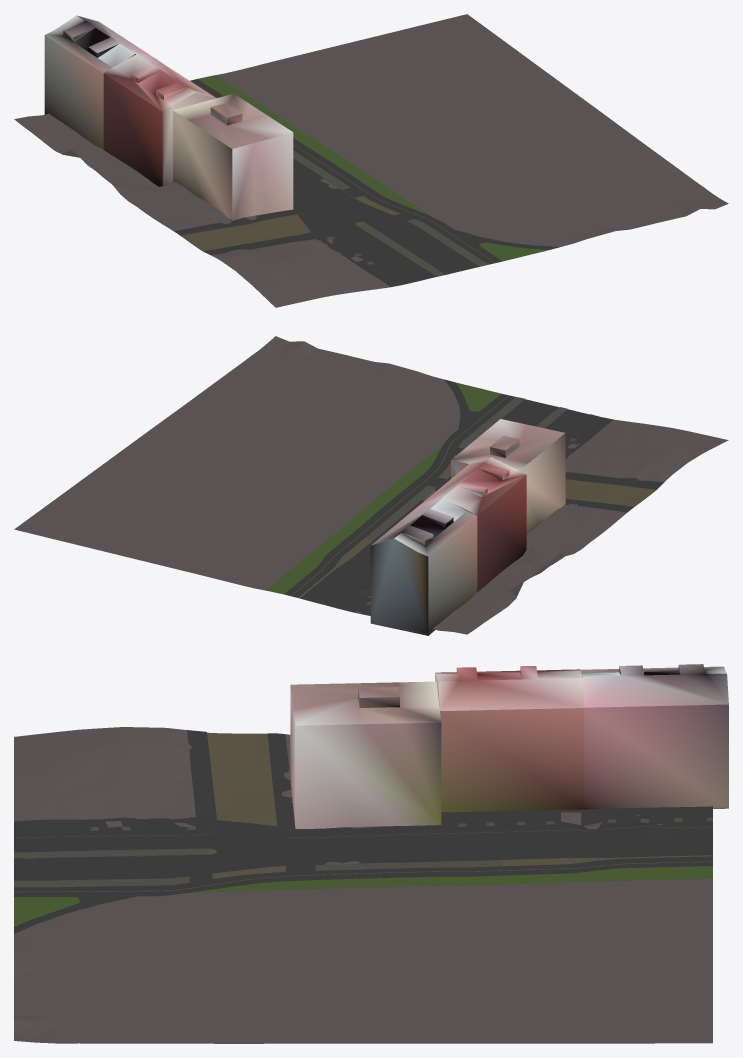
3 renders of one model, top to bottom at view 1: azimuth 30°, elevation 25°; view 2: azimuth 150°, elevation 25°; view 3: azimuth 270°, elevation 25°, orthographic. The views are drawn at different scales.
Visible parts, largest first — view 1: c_m02_m16; view 2: c_m02_m16; view 3: c_m02_m16.
Part boxes in pixels (left/top/right/bottom): c_m02_m16: left=14, top=14, right=728, bottom=307; c_m02_m16: left=14, top=336, right=728, bottom=635; c_m02_m16: left=14, top=664, right=728, bottom=1043.
Size of the model in its own units: 128 by 24.8 by 131.
